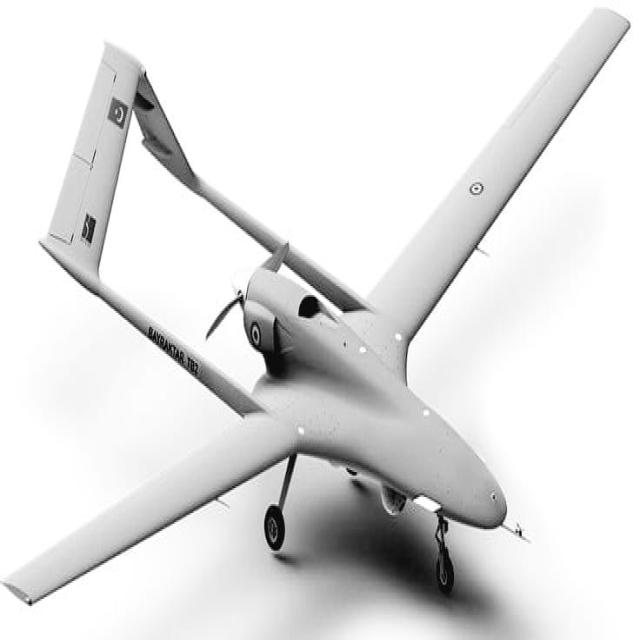iha: (3, 2, 628, 599)
